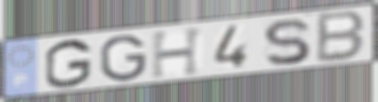4: (212, 23, 252, 71)
B: (314, 9, 368, 64)
G: (43, 38, 95, 90), (98, 33, 149, 83)
H: (149, 25, 207, 81)
S: (260, 17, 313, 68)
